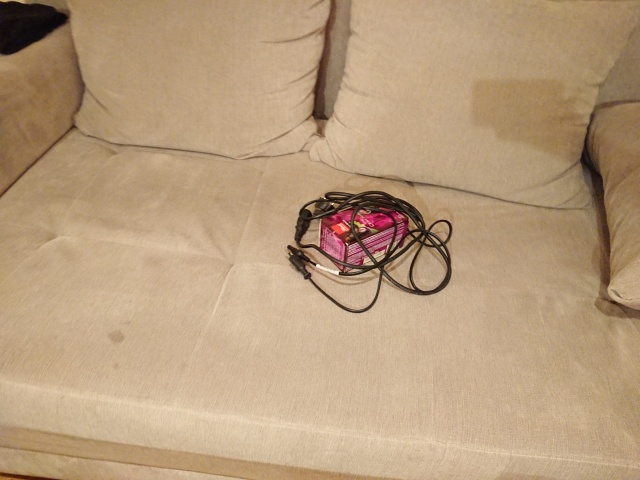Franck Black Currant Tea 60g: (316, 195, 411, 276)
